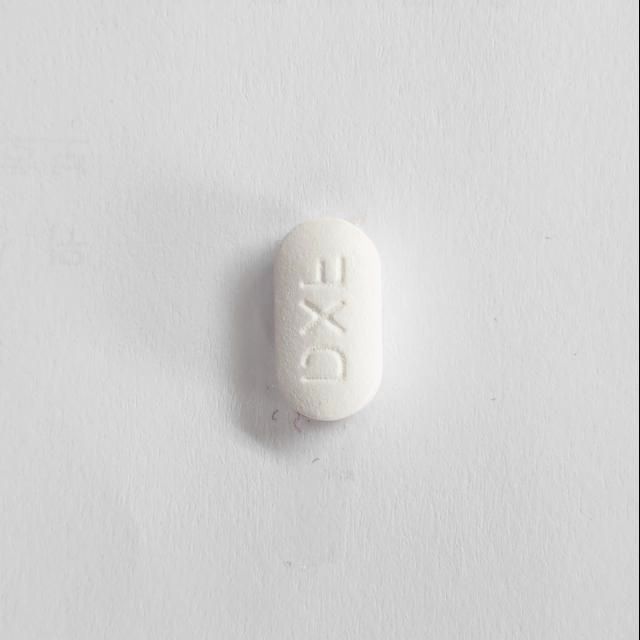pill: (265, 215, 393, 425)
